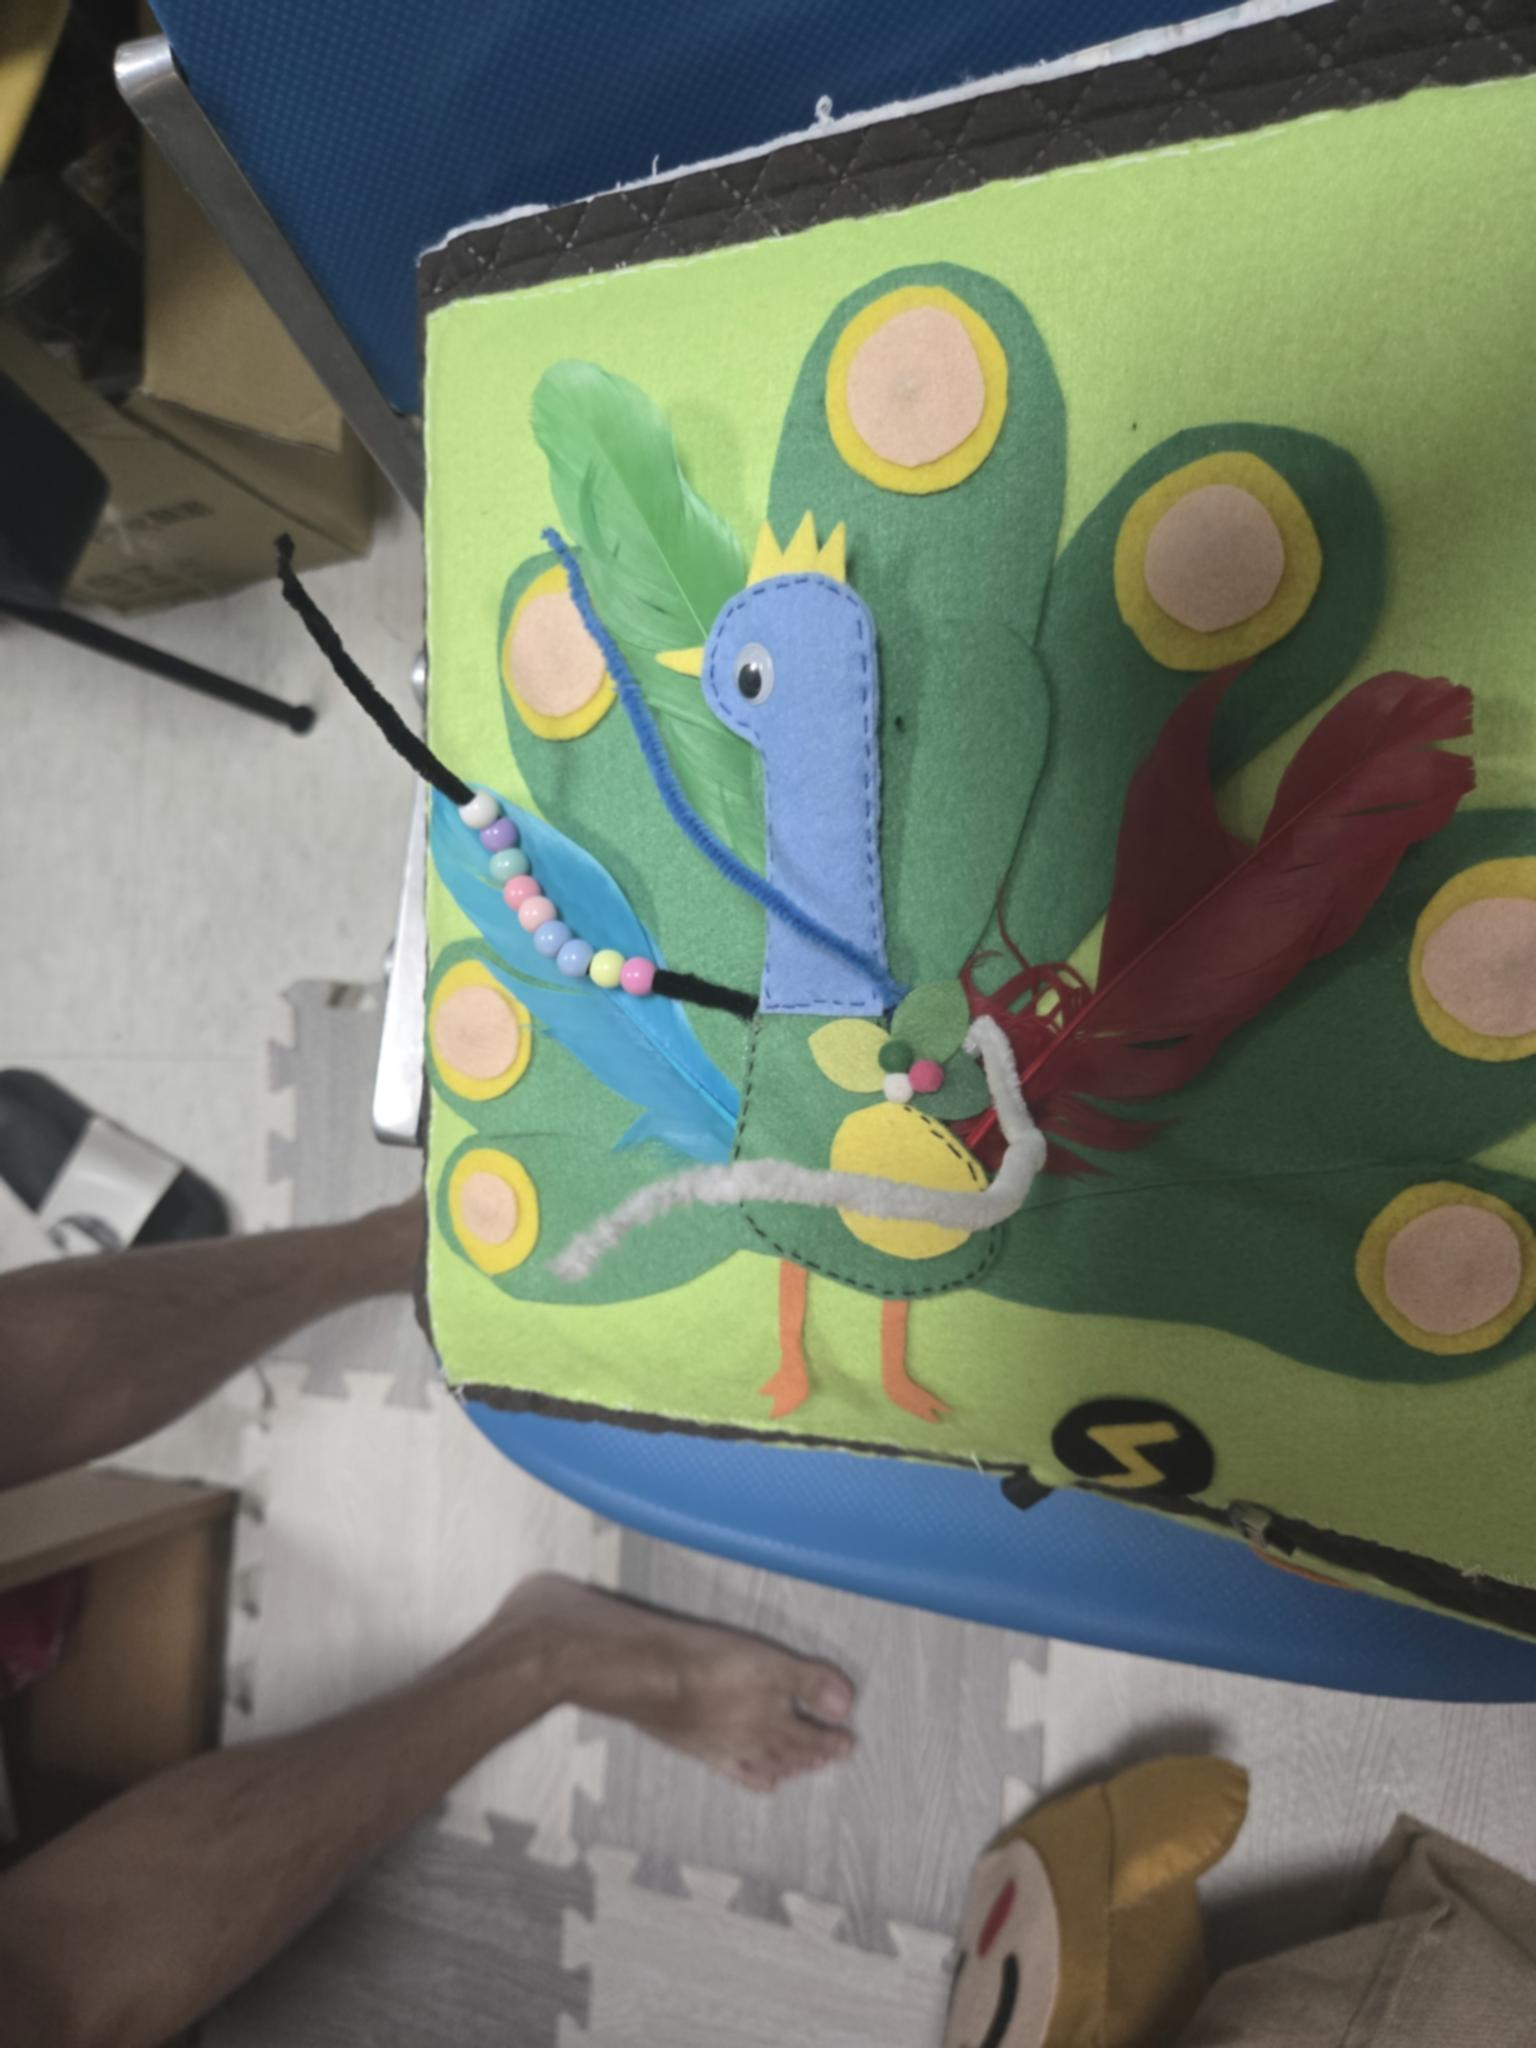bead: (618, 955, 665, 1003), (450, 785, 497, 827), (516, 892, 557, 939), (558, 940, 594, 987), (482, 851, 536, 880), (537, 921, 571, 964), (471, 827, 536, 850), (587, 950, 624, 987), (497, 879, 544, 908)
